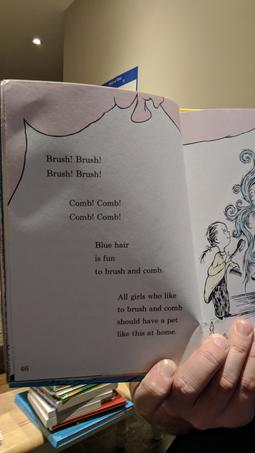text block: (105, 288, 188, 341), (86, 235, 166, 282), (37, 144, 106, 186), (60, 194, 130, 227)
